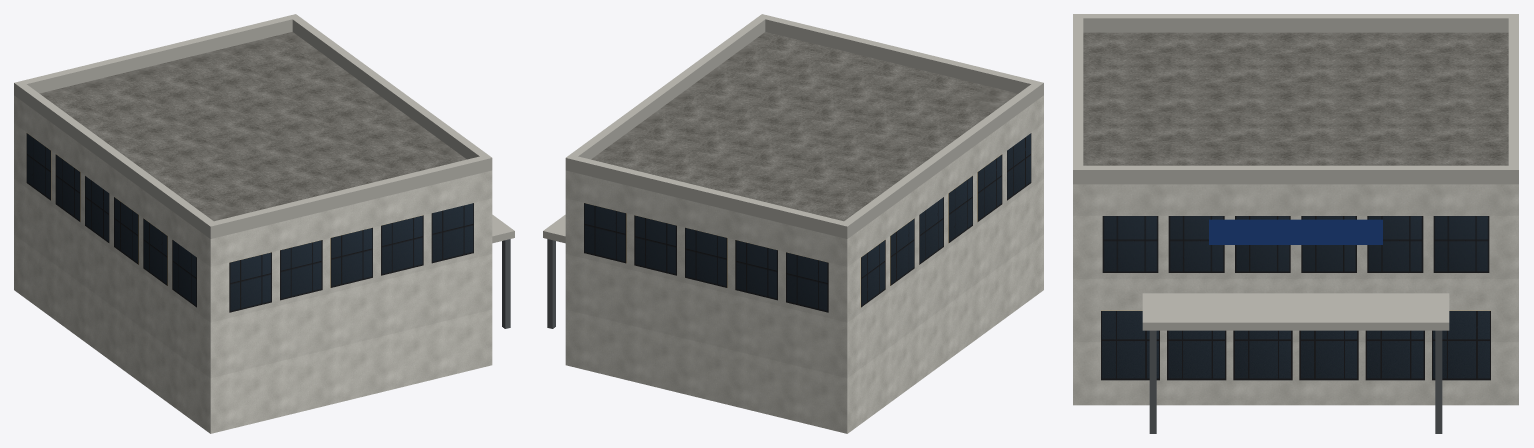
Rendered from let_budova_0.glb.
The picture shows the model from 3 angles, left to right: view 1: azimuth 30°, elevation 25°; view 2: azimuth 150°, elevation 25°; view 3: azimuth 270°, elevation 25°; orthographic projection. The views are drawn at different scales.
Visible parts, largest first — view 1: dum; view 2: dum; view 3: dum.
Part boxes in pixels (x1,y1,x2,y2): dum: (14, 14, 514, 433); dum: (543, 14, 1043, 433); dum: (1073, 14, 1518, 433).
Bounding box in the file's own units: 12.62 × 7.45 × 12.84.
Materials: 2 (2 with a texture image).
